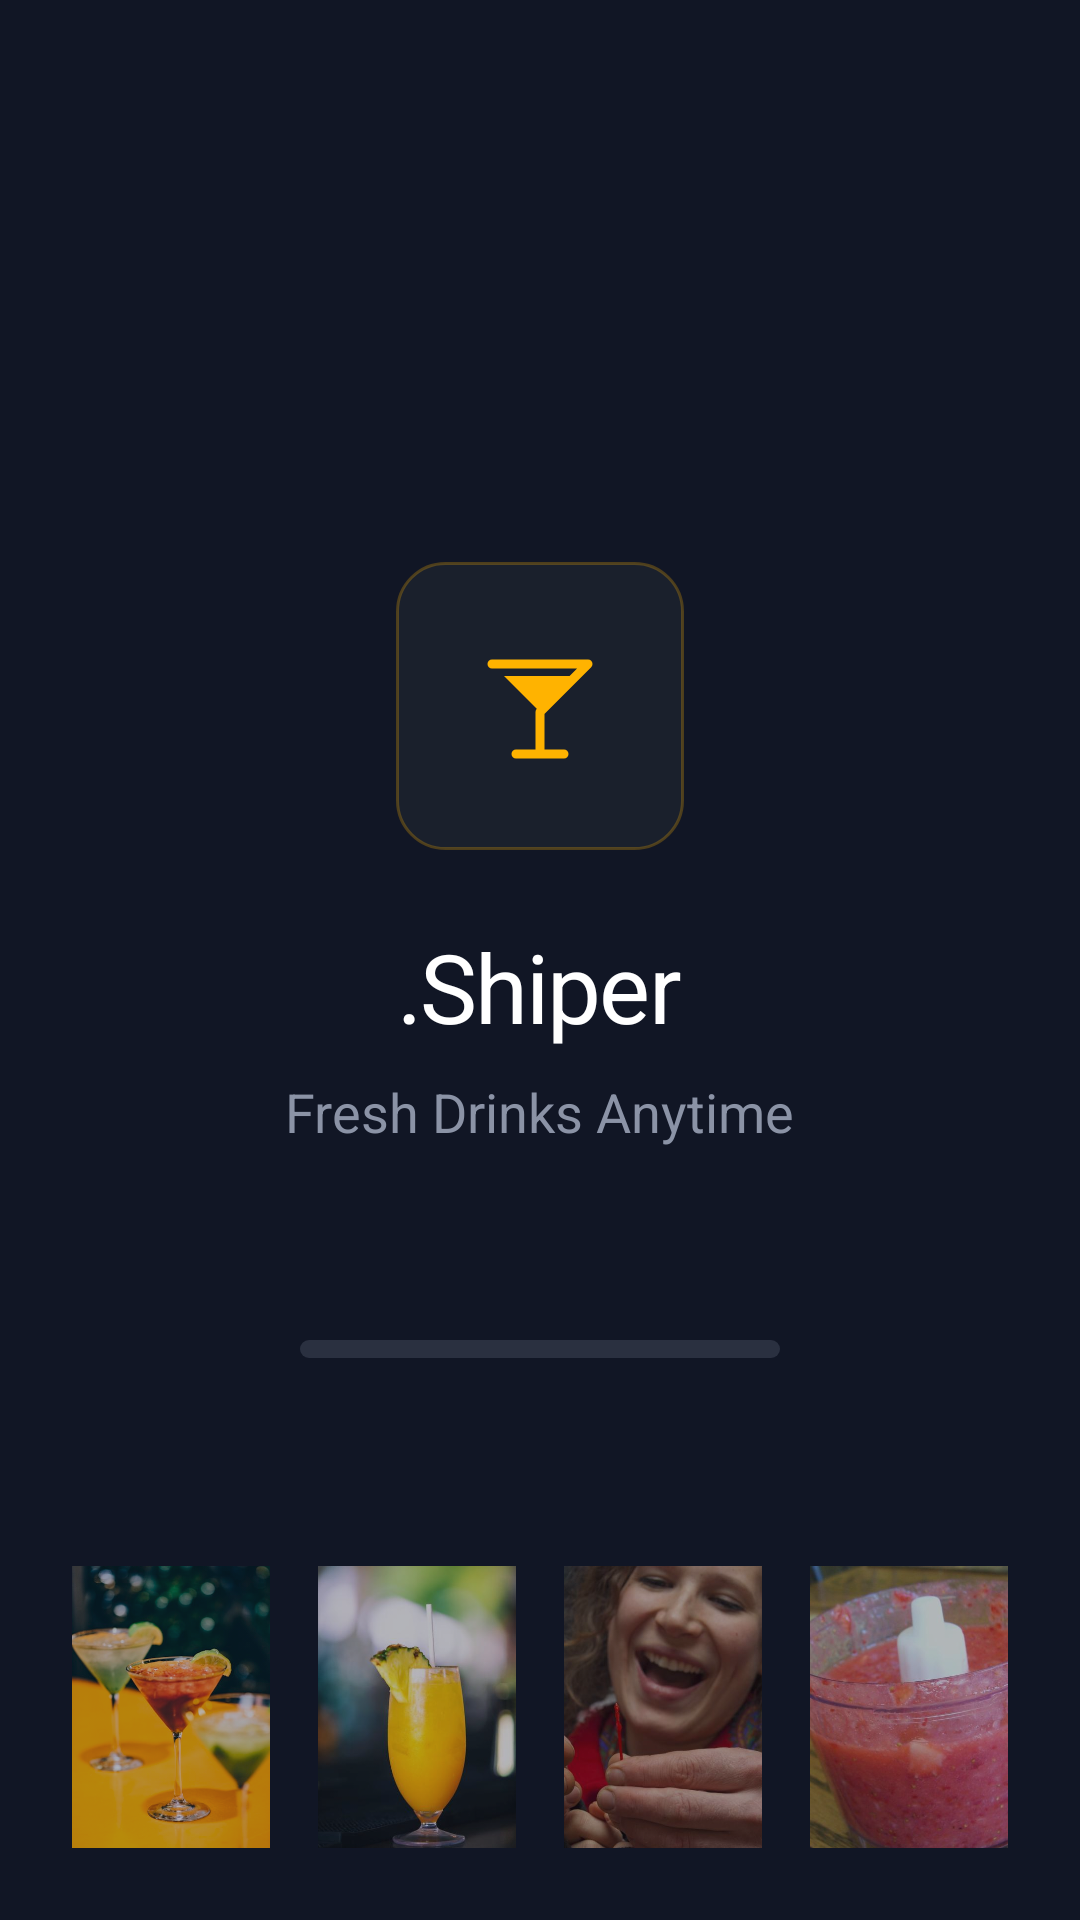

Named icons in this screenshot (1080w x 1920h) and their bounding boxes, bbox=[x1, y1, x2, y2]:
drink tropical breeze: bbox=[318, 1566, 516, 1848]
drink velvet berry: bbox=[810, 1566, 1008, 1848]
